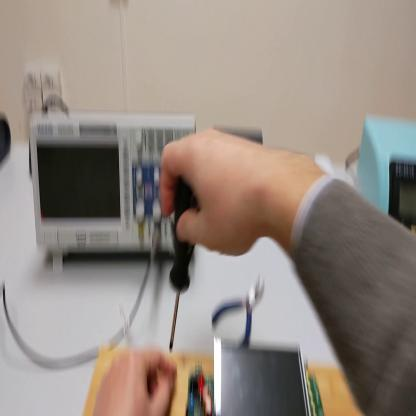hand: (160, 124, 269, 260), (95, 346, 180, 413)
low voltage board: (184, 339, 325, 411)
oscilloscope: (31, 111, 201, 269)
pliers: (210, 278, 268, 349)
screwdriver-: (171, 181, 200, 353)
socket: (2, 119, 11, 166)
welder station: (358, 104, 416, 230)
working area: (83, 335, 365, 416)
